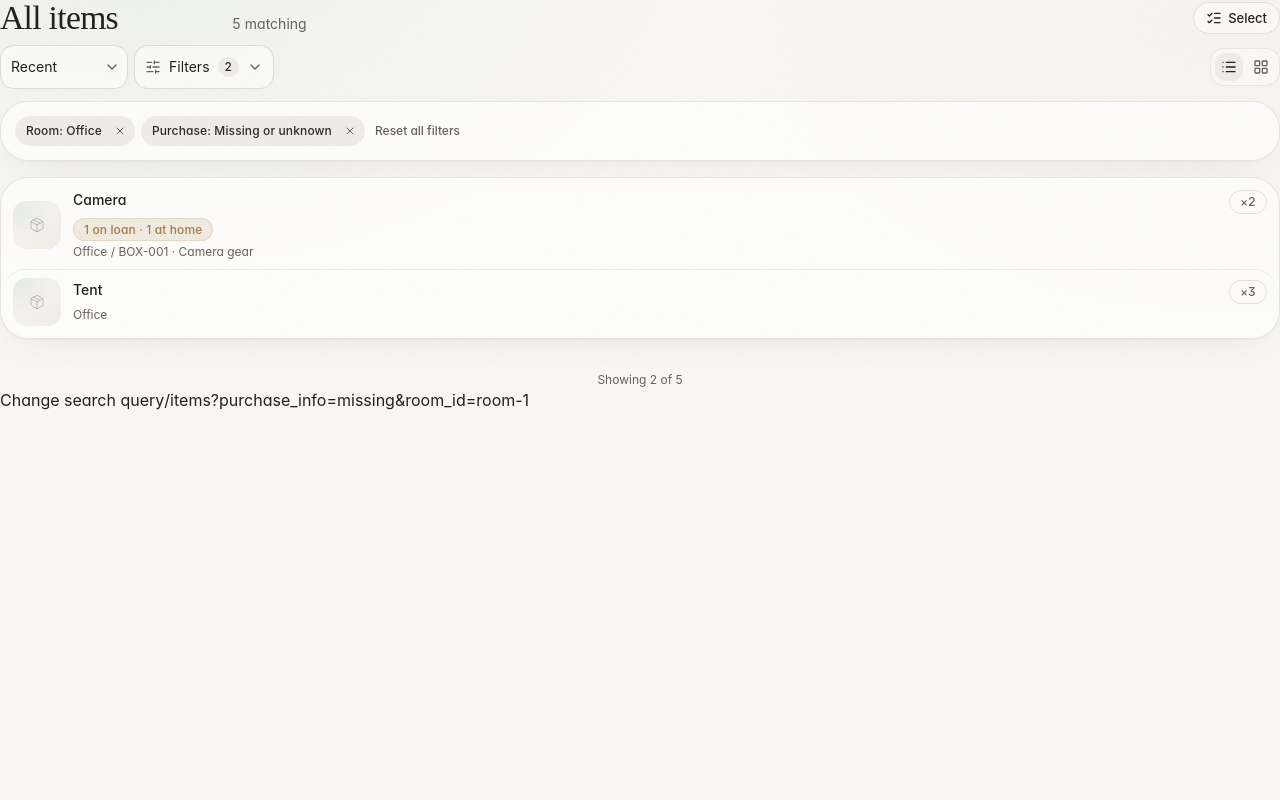
Test case: ItemsPage bulk organisation › shows active filter chips and clears bulk selection when a filter changes
Check: the text "Camera" is shown, box [73, 191, 126, 208]
Check: the text "Purchase: Missing or unknown" is shown, box [152, 122, 332, 140]
Click the button with aria-label "Select items" at (1237, 18), box [1193, 2, 1279, 34]
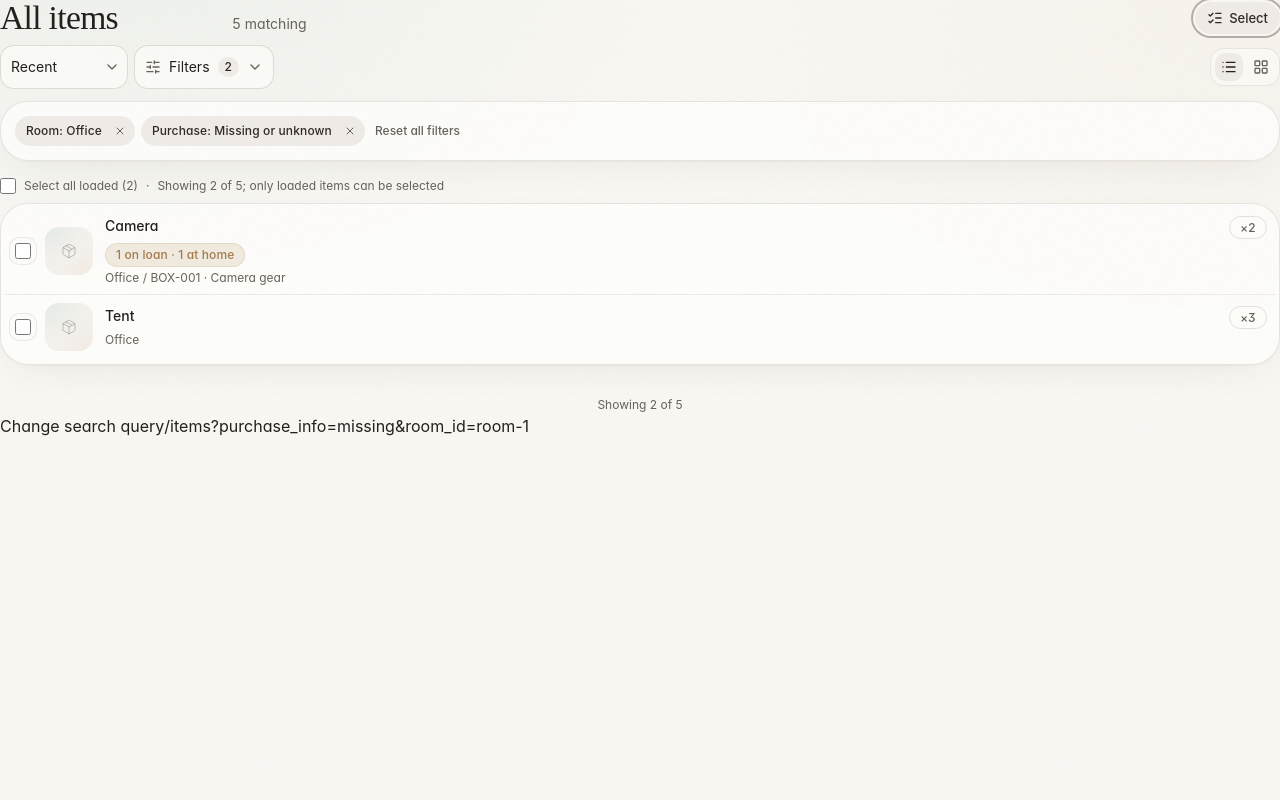
Click the checkbox named "Select Camera" at (23, 251), box [15, 243, 31, 259]
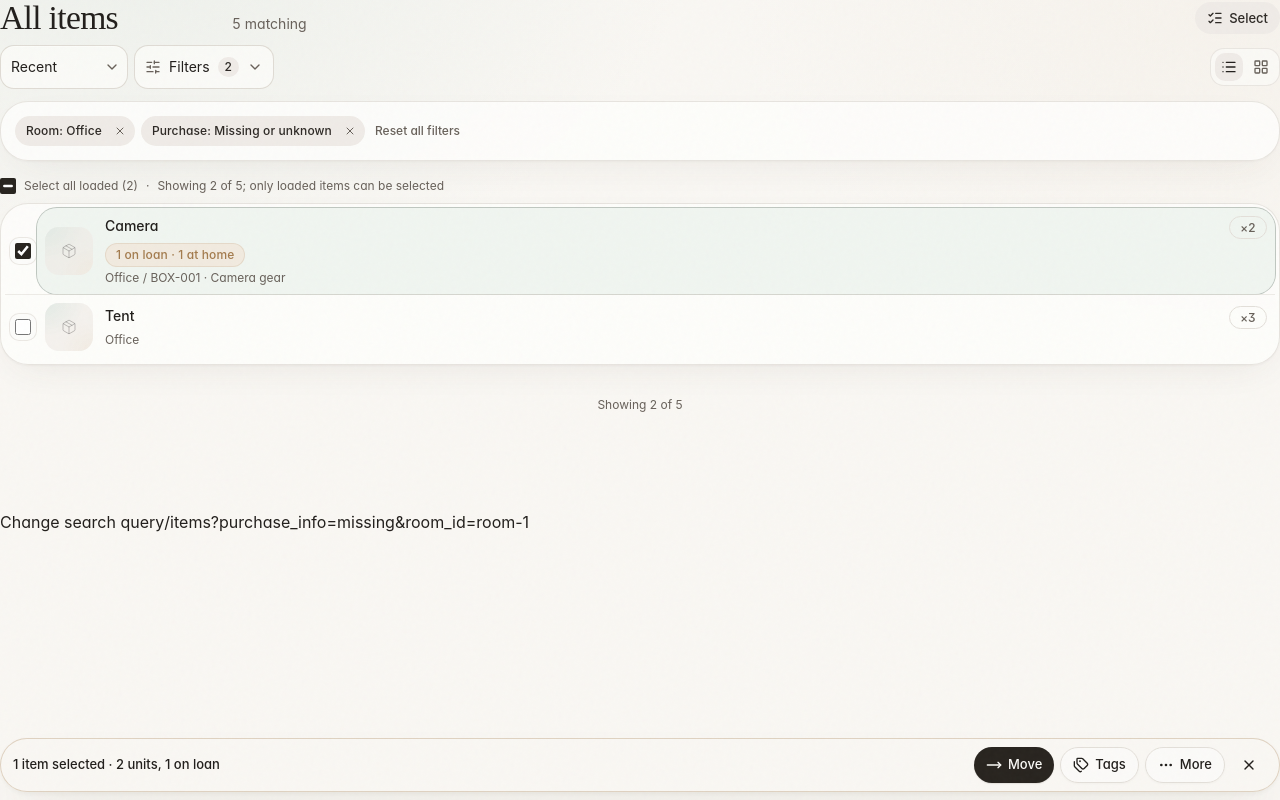
Check: the text "1 item selected · 2 units, 1 on loan" is shown, box [13, 756, 220, 772]
Click the button named "Remove Purchase: Missing or unknown" at (350, 131), box [336, 117, 364, 145]
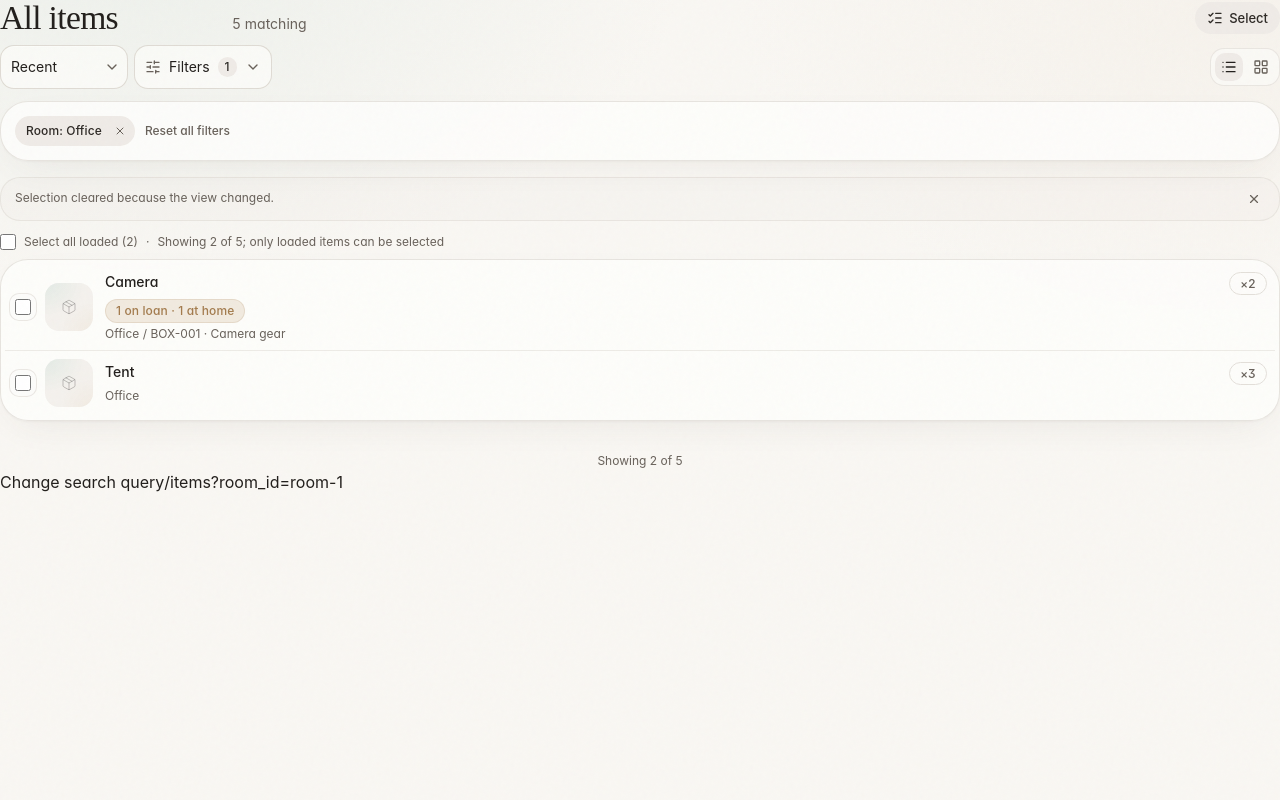
Check: the text "Purchase: Missing or unknown" is gone
Check: the text "Selection cleared because the view changed." is shown, box [15, 188, 274, 208]
Check: the text with test id "location" no longer shows "purchase_info=", box [164, 472, 343, 492]
